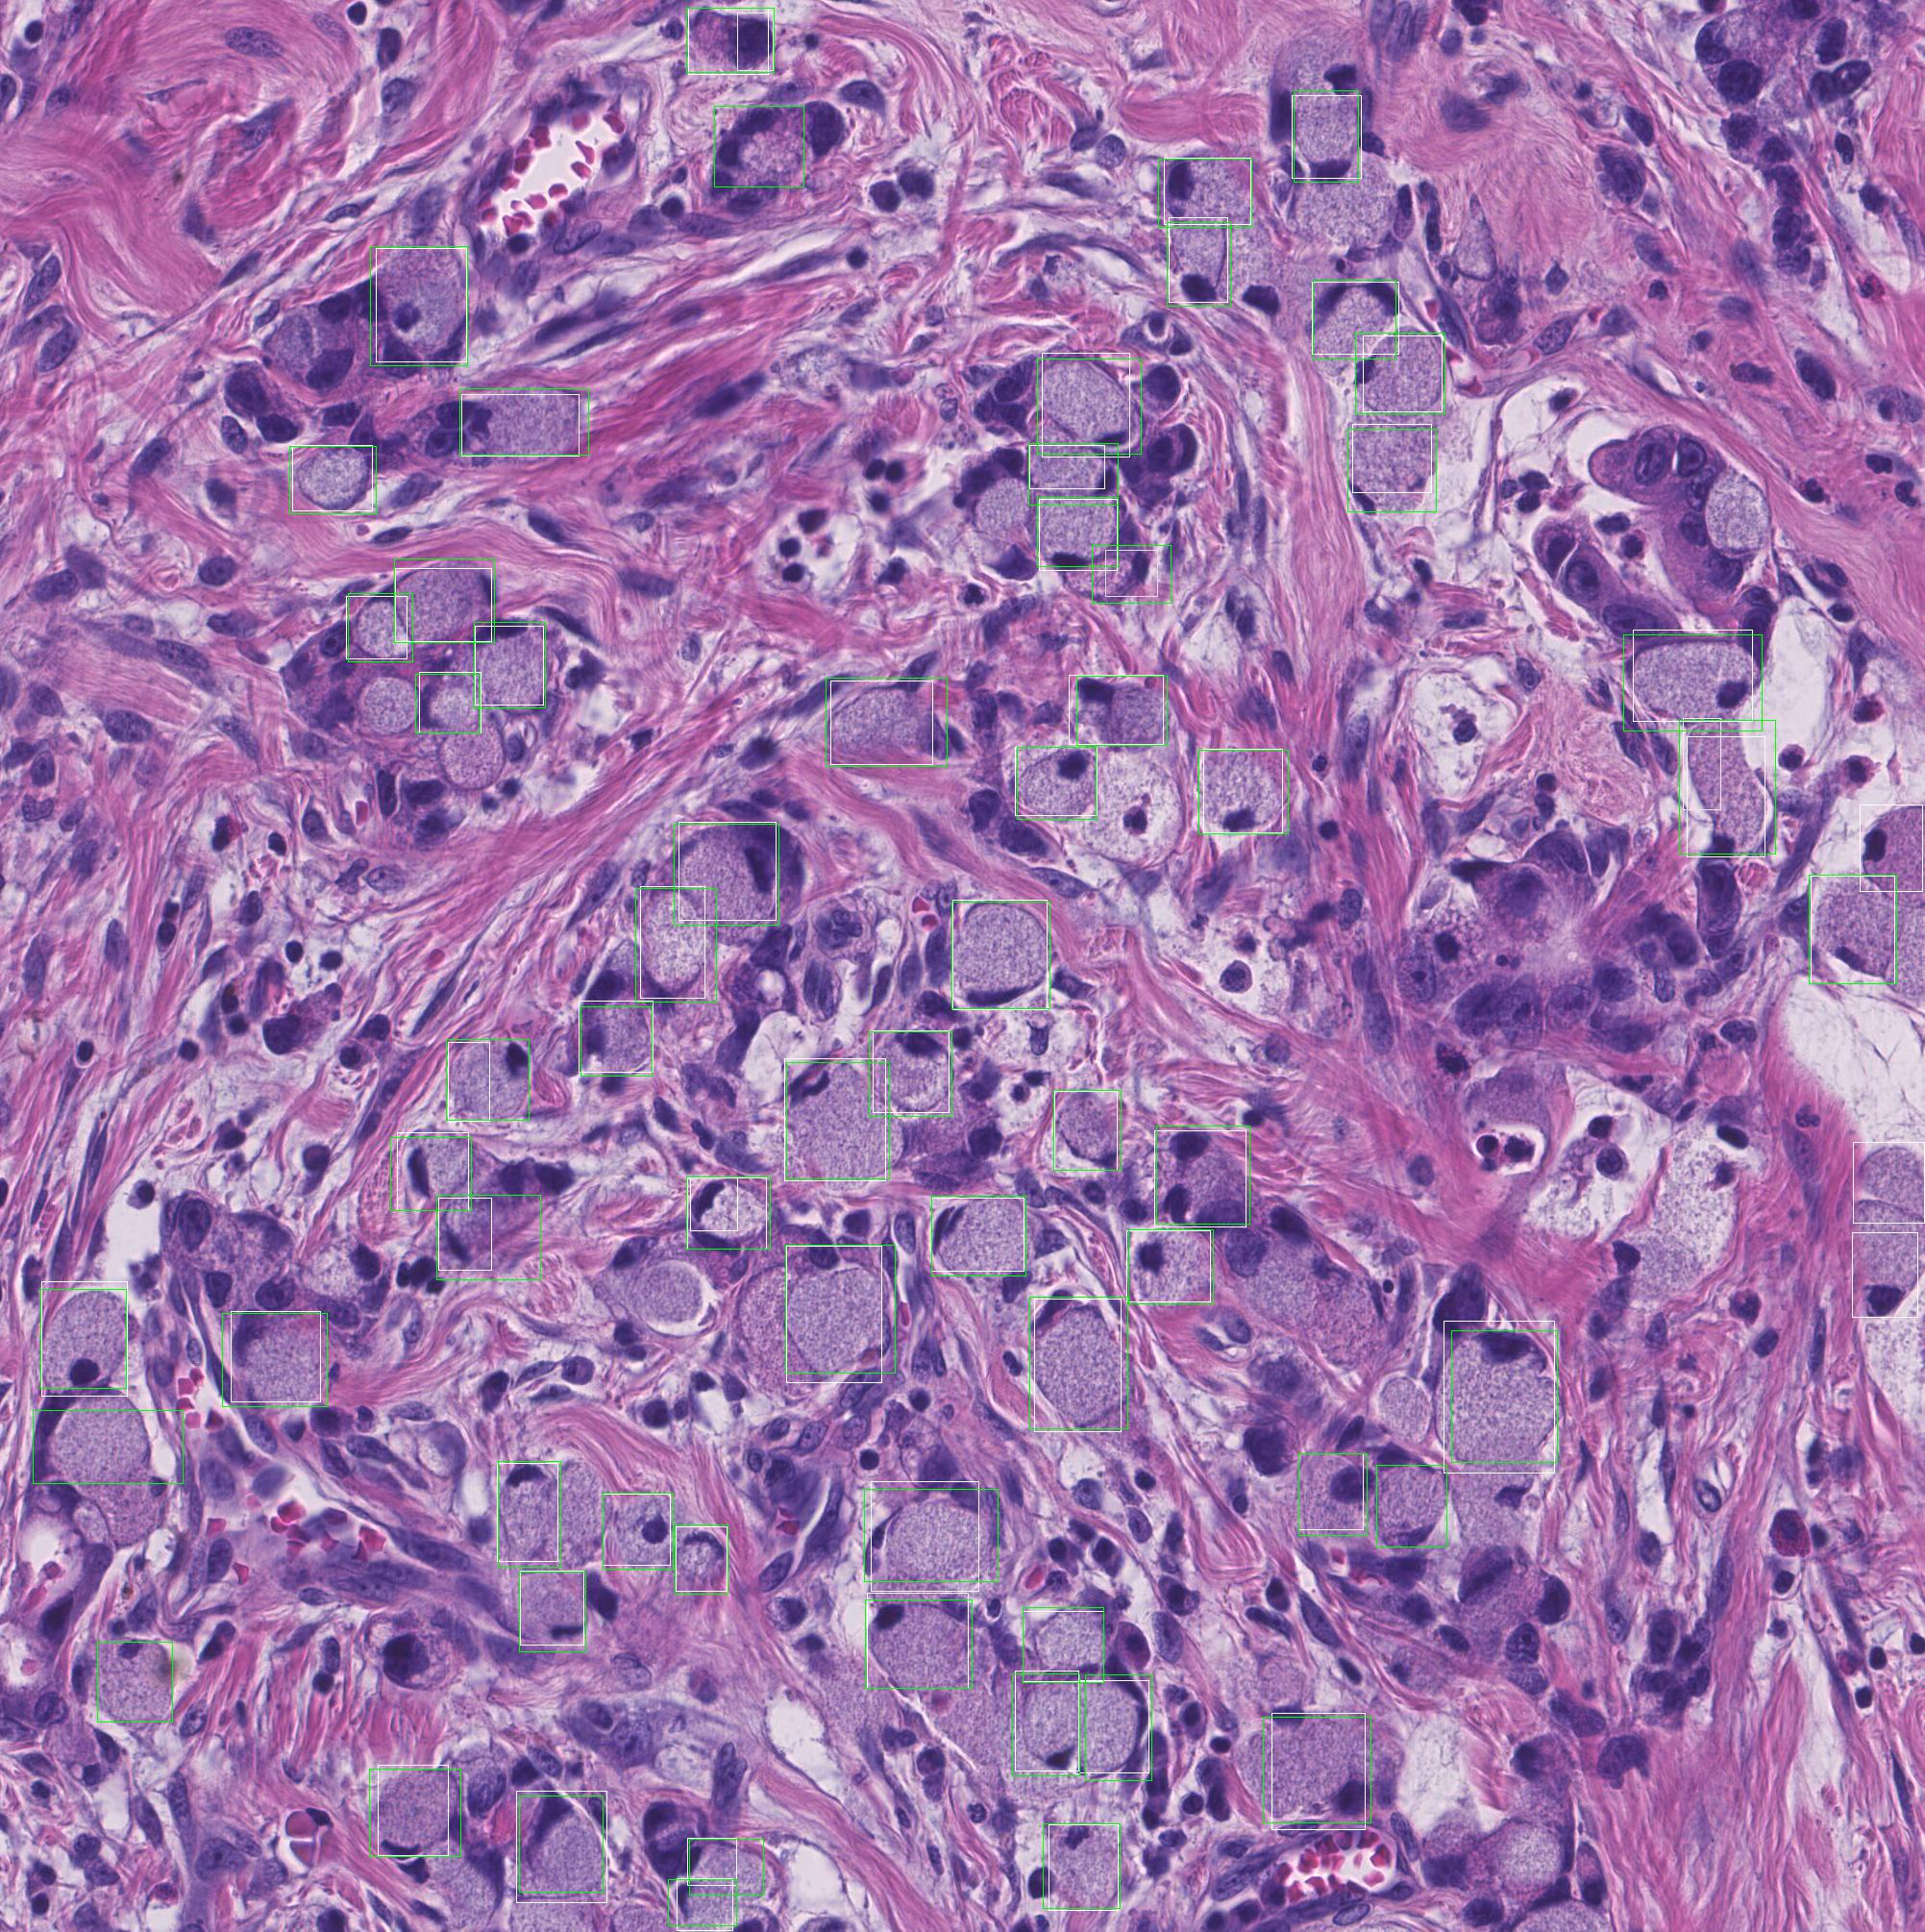ring_cell_cancer: (1444, 1320, 1555, 1472), (786, 1246, 881, 1382), (784, 1058, 885, 1181), (871, 1481, 978, 1590), (1035, 1299, 1121, 1431), (1632, 629, 1752, 721), (1271, 1713, 1364, 1830), (952, 899, 1047, 1010), (375, 249, 465, 361), (517, 1791, 606, 1902), (41, 1282, 127, 1396), (679, 821, 776, 920), (867, 1594, 968, 1689), (1687, 737, 1765, 857), (1042, 353, 1130, 457), (1810, 876, 1895, 984), (1155, 1130, 1246, 1227), (830, 680, 933, 763), (231, 1312, 321, 1401), (640, 887, 705, 998), (395, 568, 492, 642), (462, 395, 578, 455), (931, 1197, 1024, 1271), (1068, 675, 1163, 744), (1204, 749, 1282, 832), (377, 1765, 448, 1854), (1079, 1680, 1148, 1772), (1015, 1671, 1079, 1770), (1312, 282, 1398, 354), (873, 1031, 948, 1112), (1363, 335, 1442, 411), (497, 1463, 557, 1562), (1126, 1230, 1209, 1301), (1049, 1824, 1118, 1909), (1163, 157, 1250, 224), (1022, 1611, 1104, 1682), (1853, 1142, 1923, 1223), (1292, 95, 1361, 178), (397, 1132, 469, 1209), (687, 1178, 767, 1248), (1038, 499, 1118, 569), (1853, 1232, 1918, 1317), (1352, 423, 1431, 492), (474, 626, 543, 705), (1015, 747, 1096, 814), (687, 7, 769, 74), (1860, 804, 1921, 890), (293, 444, 372, 511), (578, 1001, 652, 1072), (1054, 1091, 1118, 1170), (1379, 1468, 1442, 1546), (1299, 1453, 1363, 1530), (1169, 217, 1227, 301), (603, 1493, 670, 1565), (520, 1571, 583, 1645), (346, 596, 407, 659), (439, 1197, 492, 1269), (420, 672, 481, 732), (1683, 717, 1721, 809), (1029, 444, 1104, 488), (675, 1527, 726, 1590), (448, 1042, 488, 1121), (677, 1877, 732, 1930), (689, 1178, 737, 1230), (1105, 550, 1156, 596), (687, 1839, 737, 1884), (737, 12, 772, 71)
